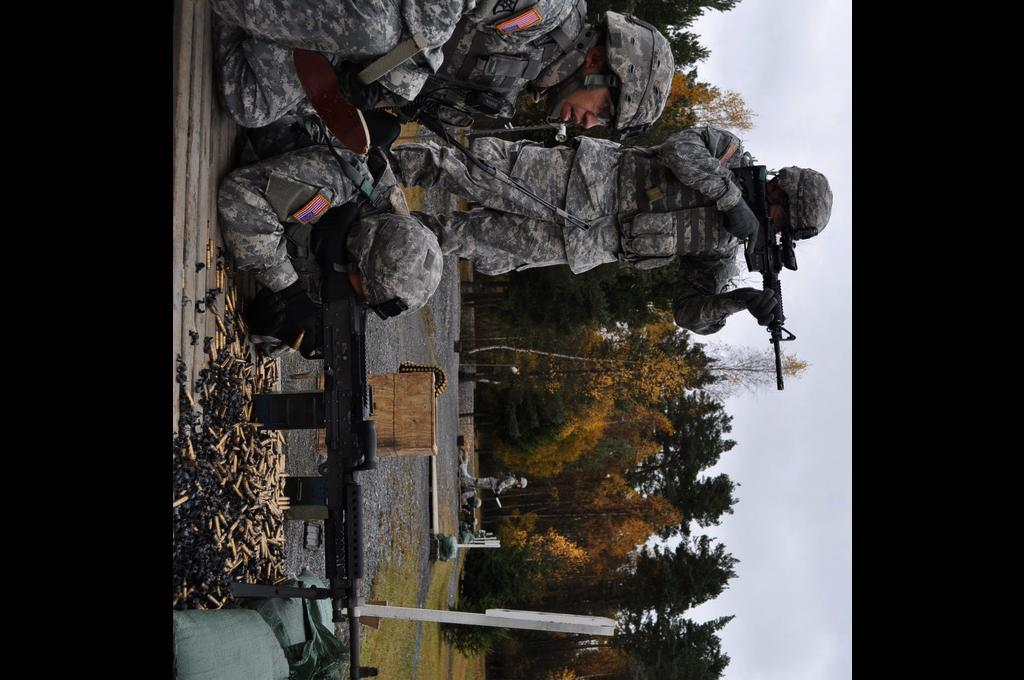gun: (247, 193, 383, 680), (716, 148, 804, 391)
